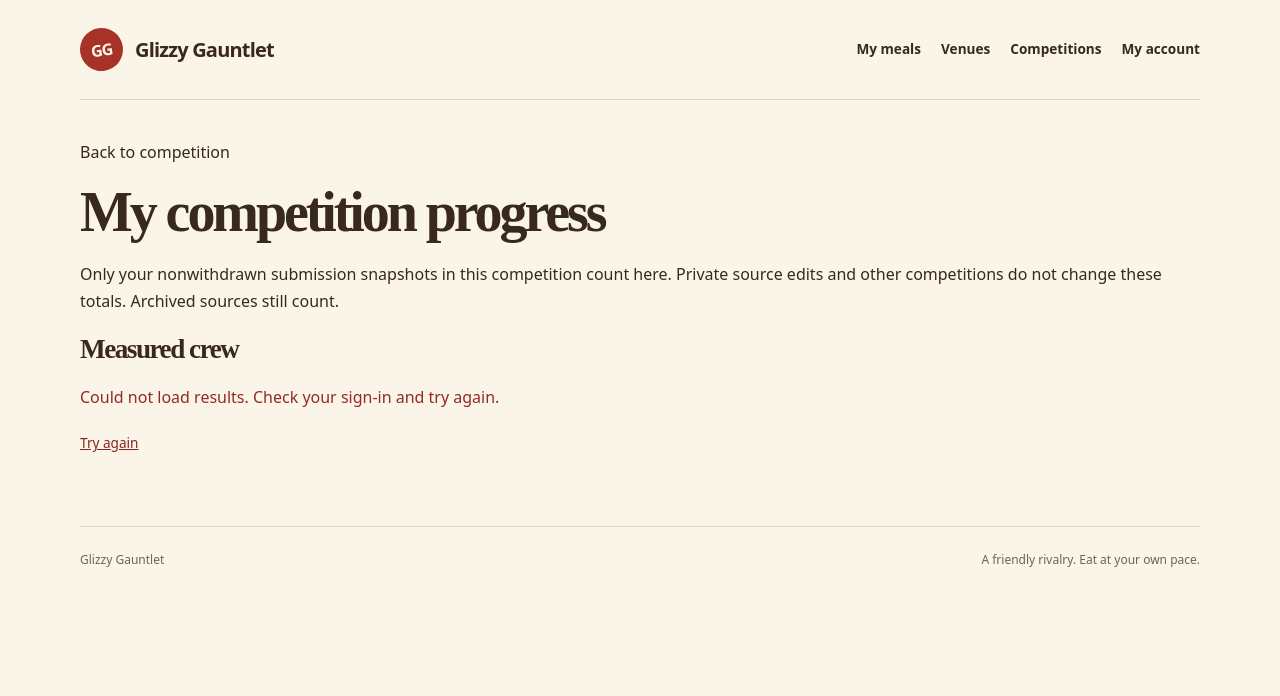
Test: standings and progress › recovers from a progress error through an explicit retry
Expected: the message shows "Could not load results", [80,386,499,408]
Step 1. Click the button "Try again" → (109, 444), box [80,426,138,462]
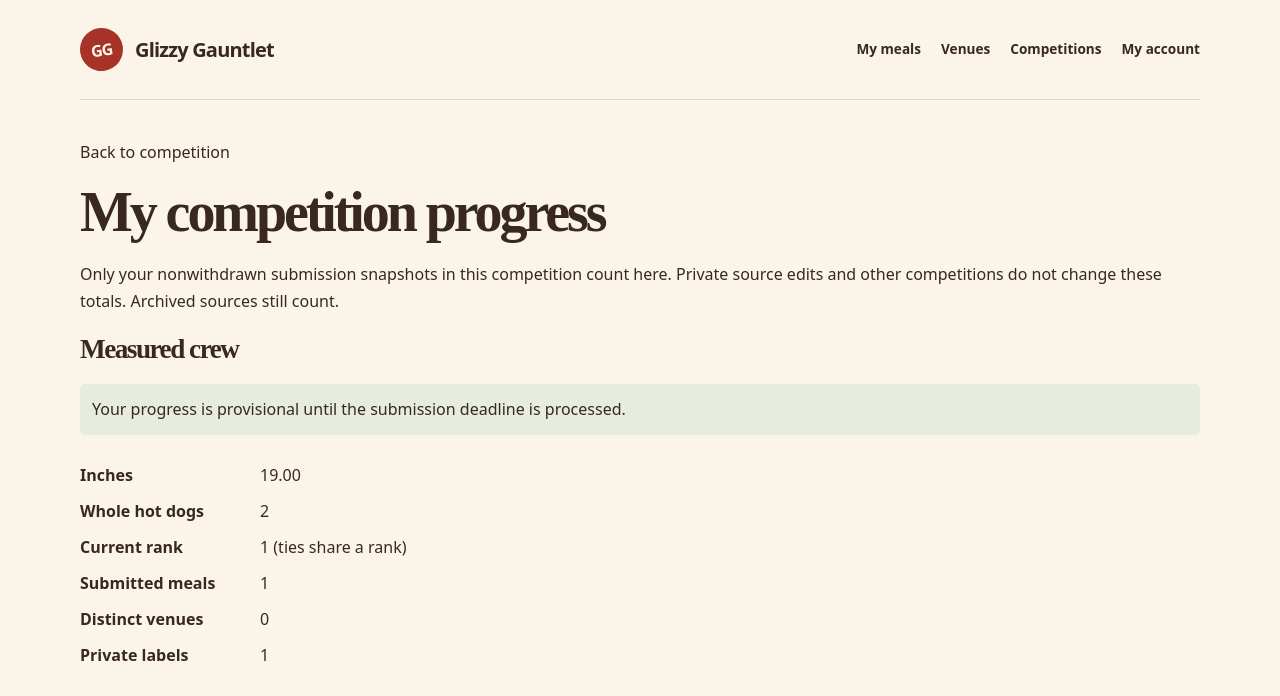
Expected: the element named "Your competition totals" is shown, [80,464,406,666]
